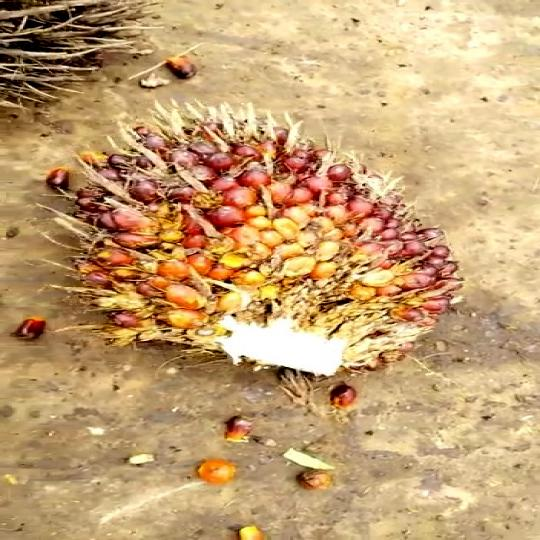masak: (53, 124, 477, 392)
